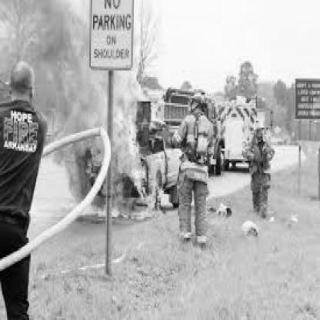Fire: (50, 47, 168, 221)
